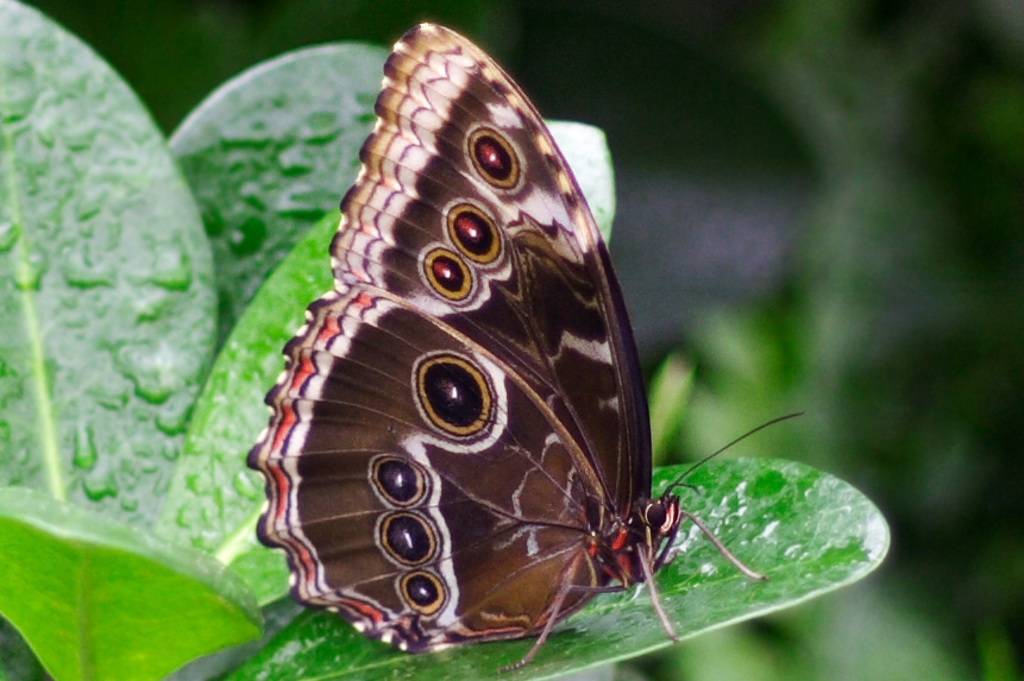Butterfly: (238, 9, 795, 672)
